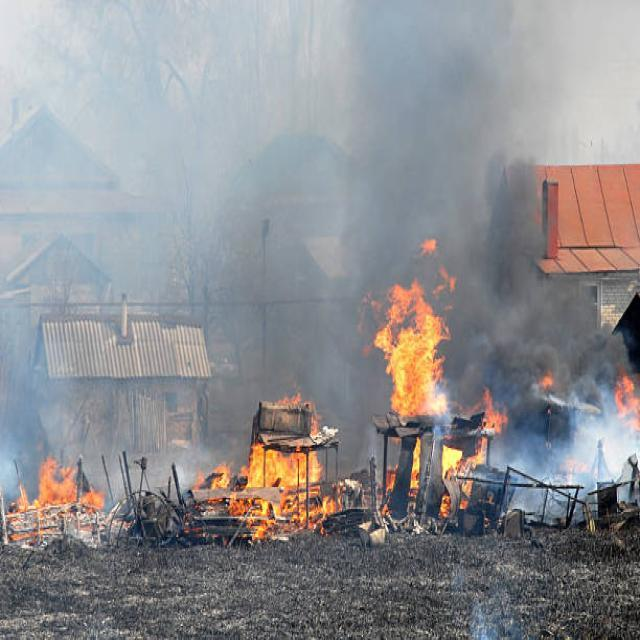Fire: (379, 248, 474, 423), (225, 397, 335, 524), (15, 451, 87, 524), (608, 356, 640, 436)
Smoke: (195, 0, 640, 434), (3, 0, 205, 484)
